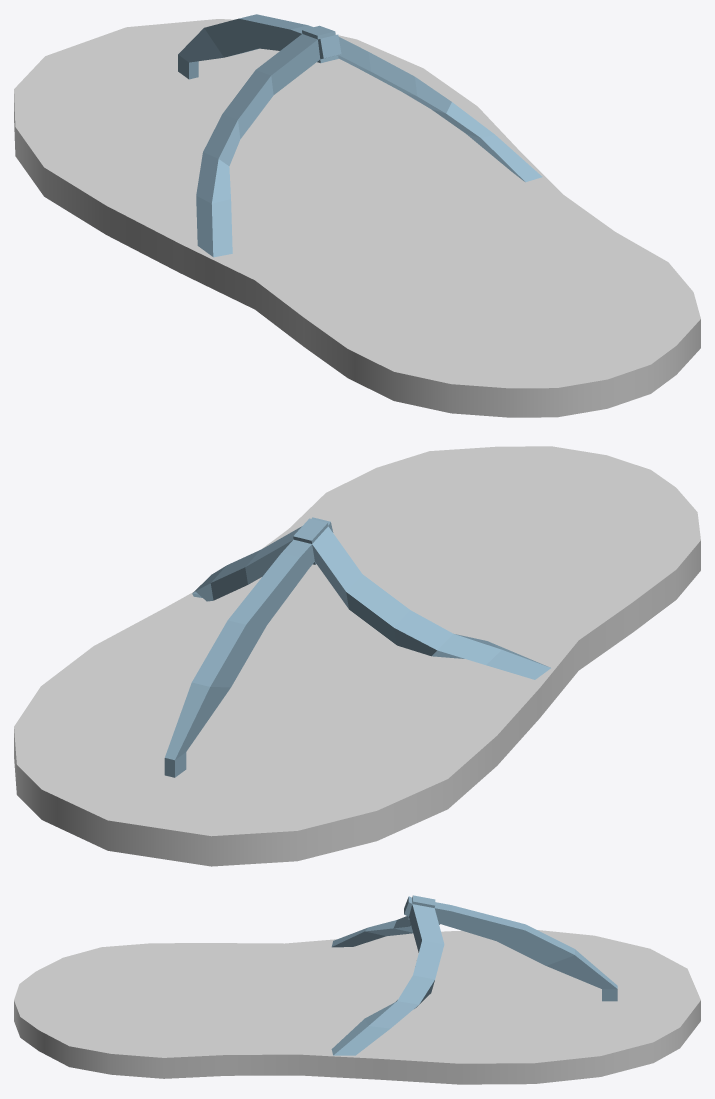
Rendered from Sandals.FBX.
3 views of the same model, one above another, from view 1: azimuth 30°, elevation 25°; view 2: azimuth 150°, elevation 25°; view 3: azimuth 270°, elevation 25° (orthographic). The views are drawn at different scales.
Parts seen in each view (by area): view 1: Sole, Lace; view 2: Sole, Lace; view 3: Sole, Lace.
Boxes of the visible parts, x1,y1,x2,y2 form: Sole: (14,19,700,417); Lace: (178,14,542,257); Sole: (14,446,700,866); Lace: (164,517,550,777); Sole: (14,930,700,1084); Lace: (331,895,617,1055).
Size of the model in its own units: 293 by 123 by 630.
